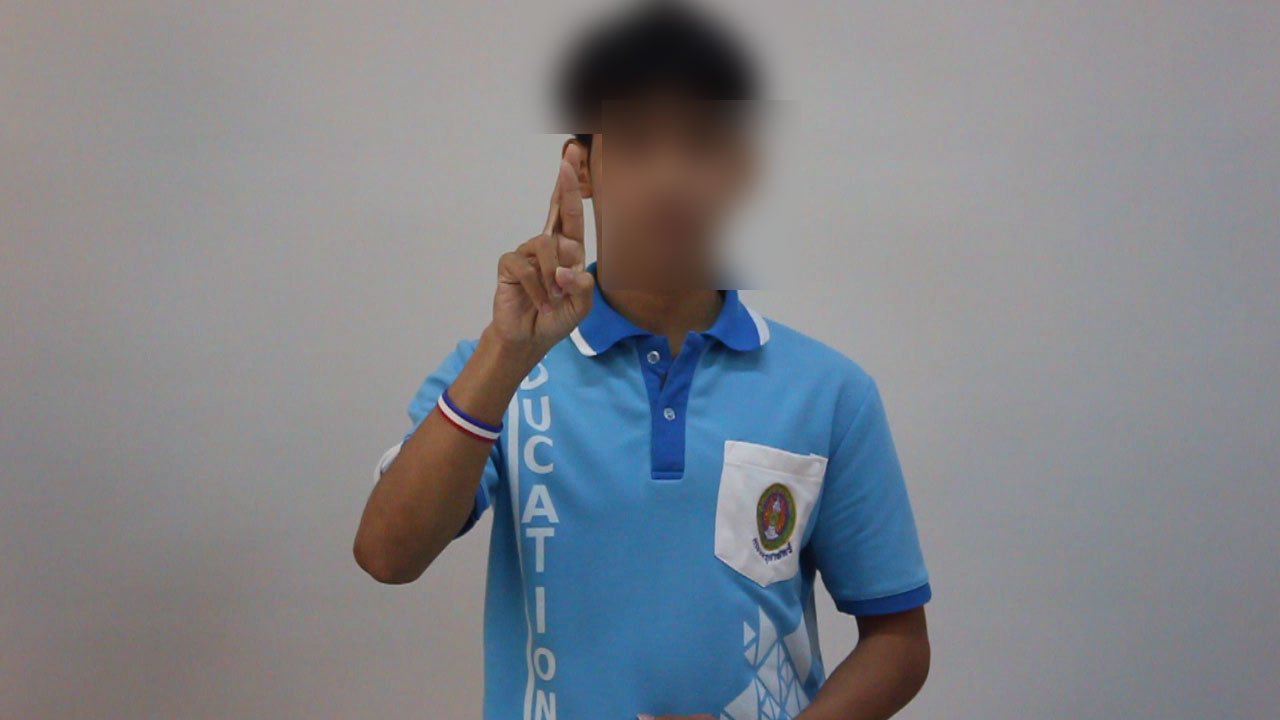rao: (459, 138, 599, 345)
